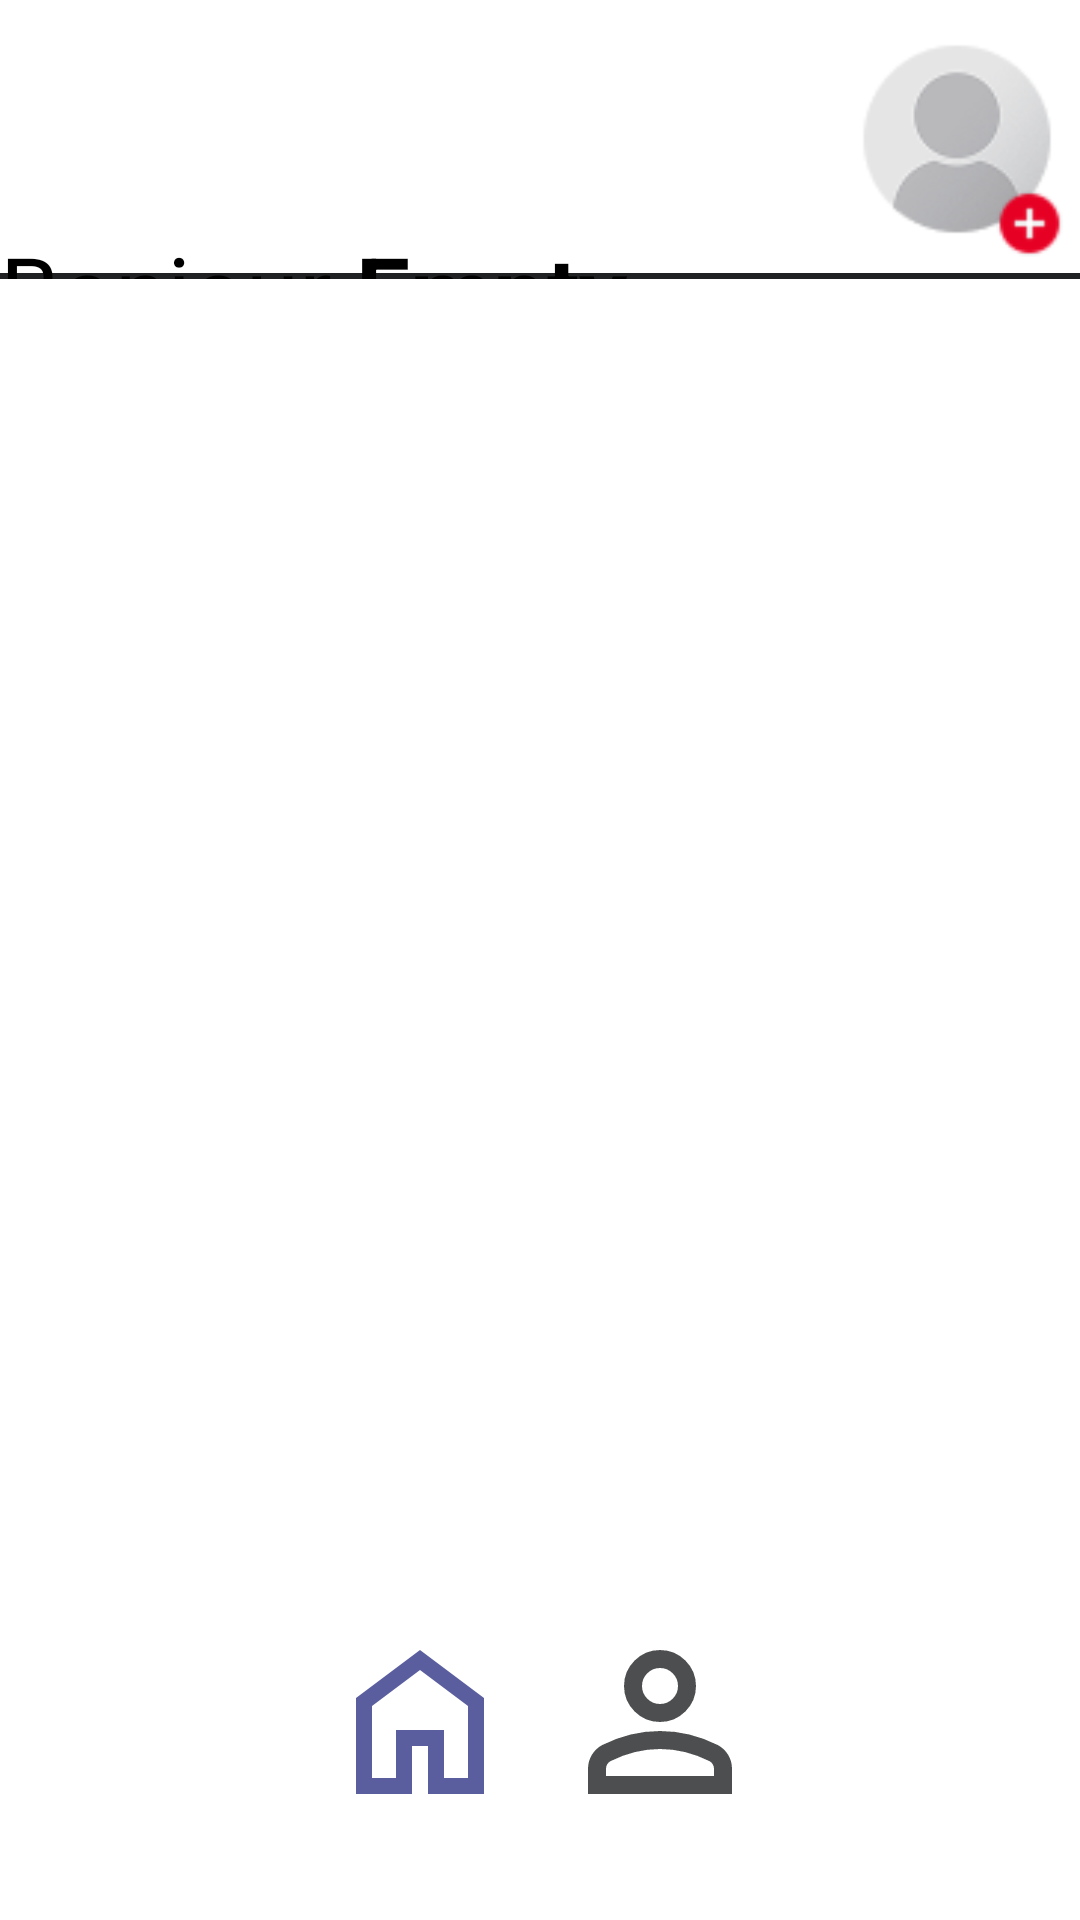

Where icons sit on this 1080px×1920px app screen, as (x1, y1, x2, y2):
home: (356, 1650, 484, 1794)
person: (588, 1650, 732, 1794)
